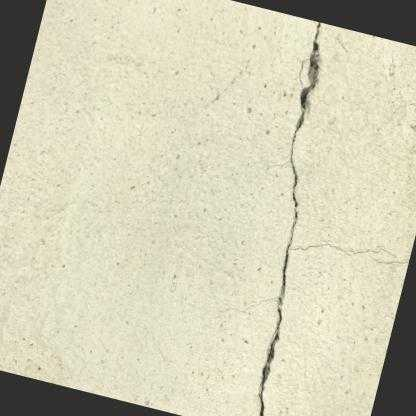crack: (259, 21, 320, 416)
